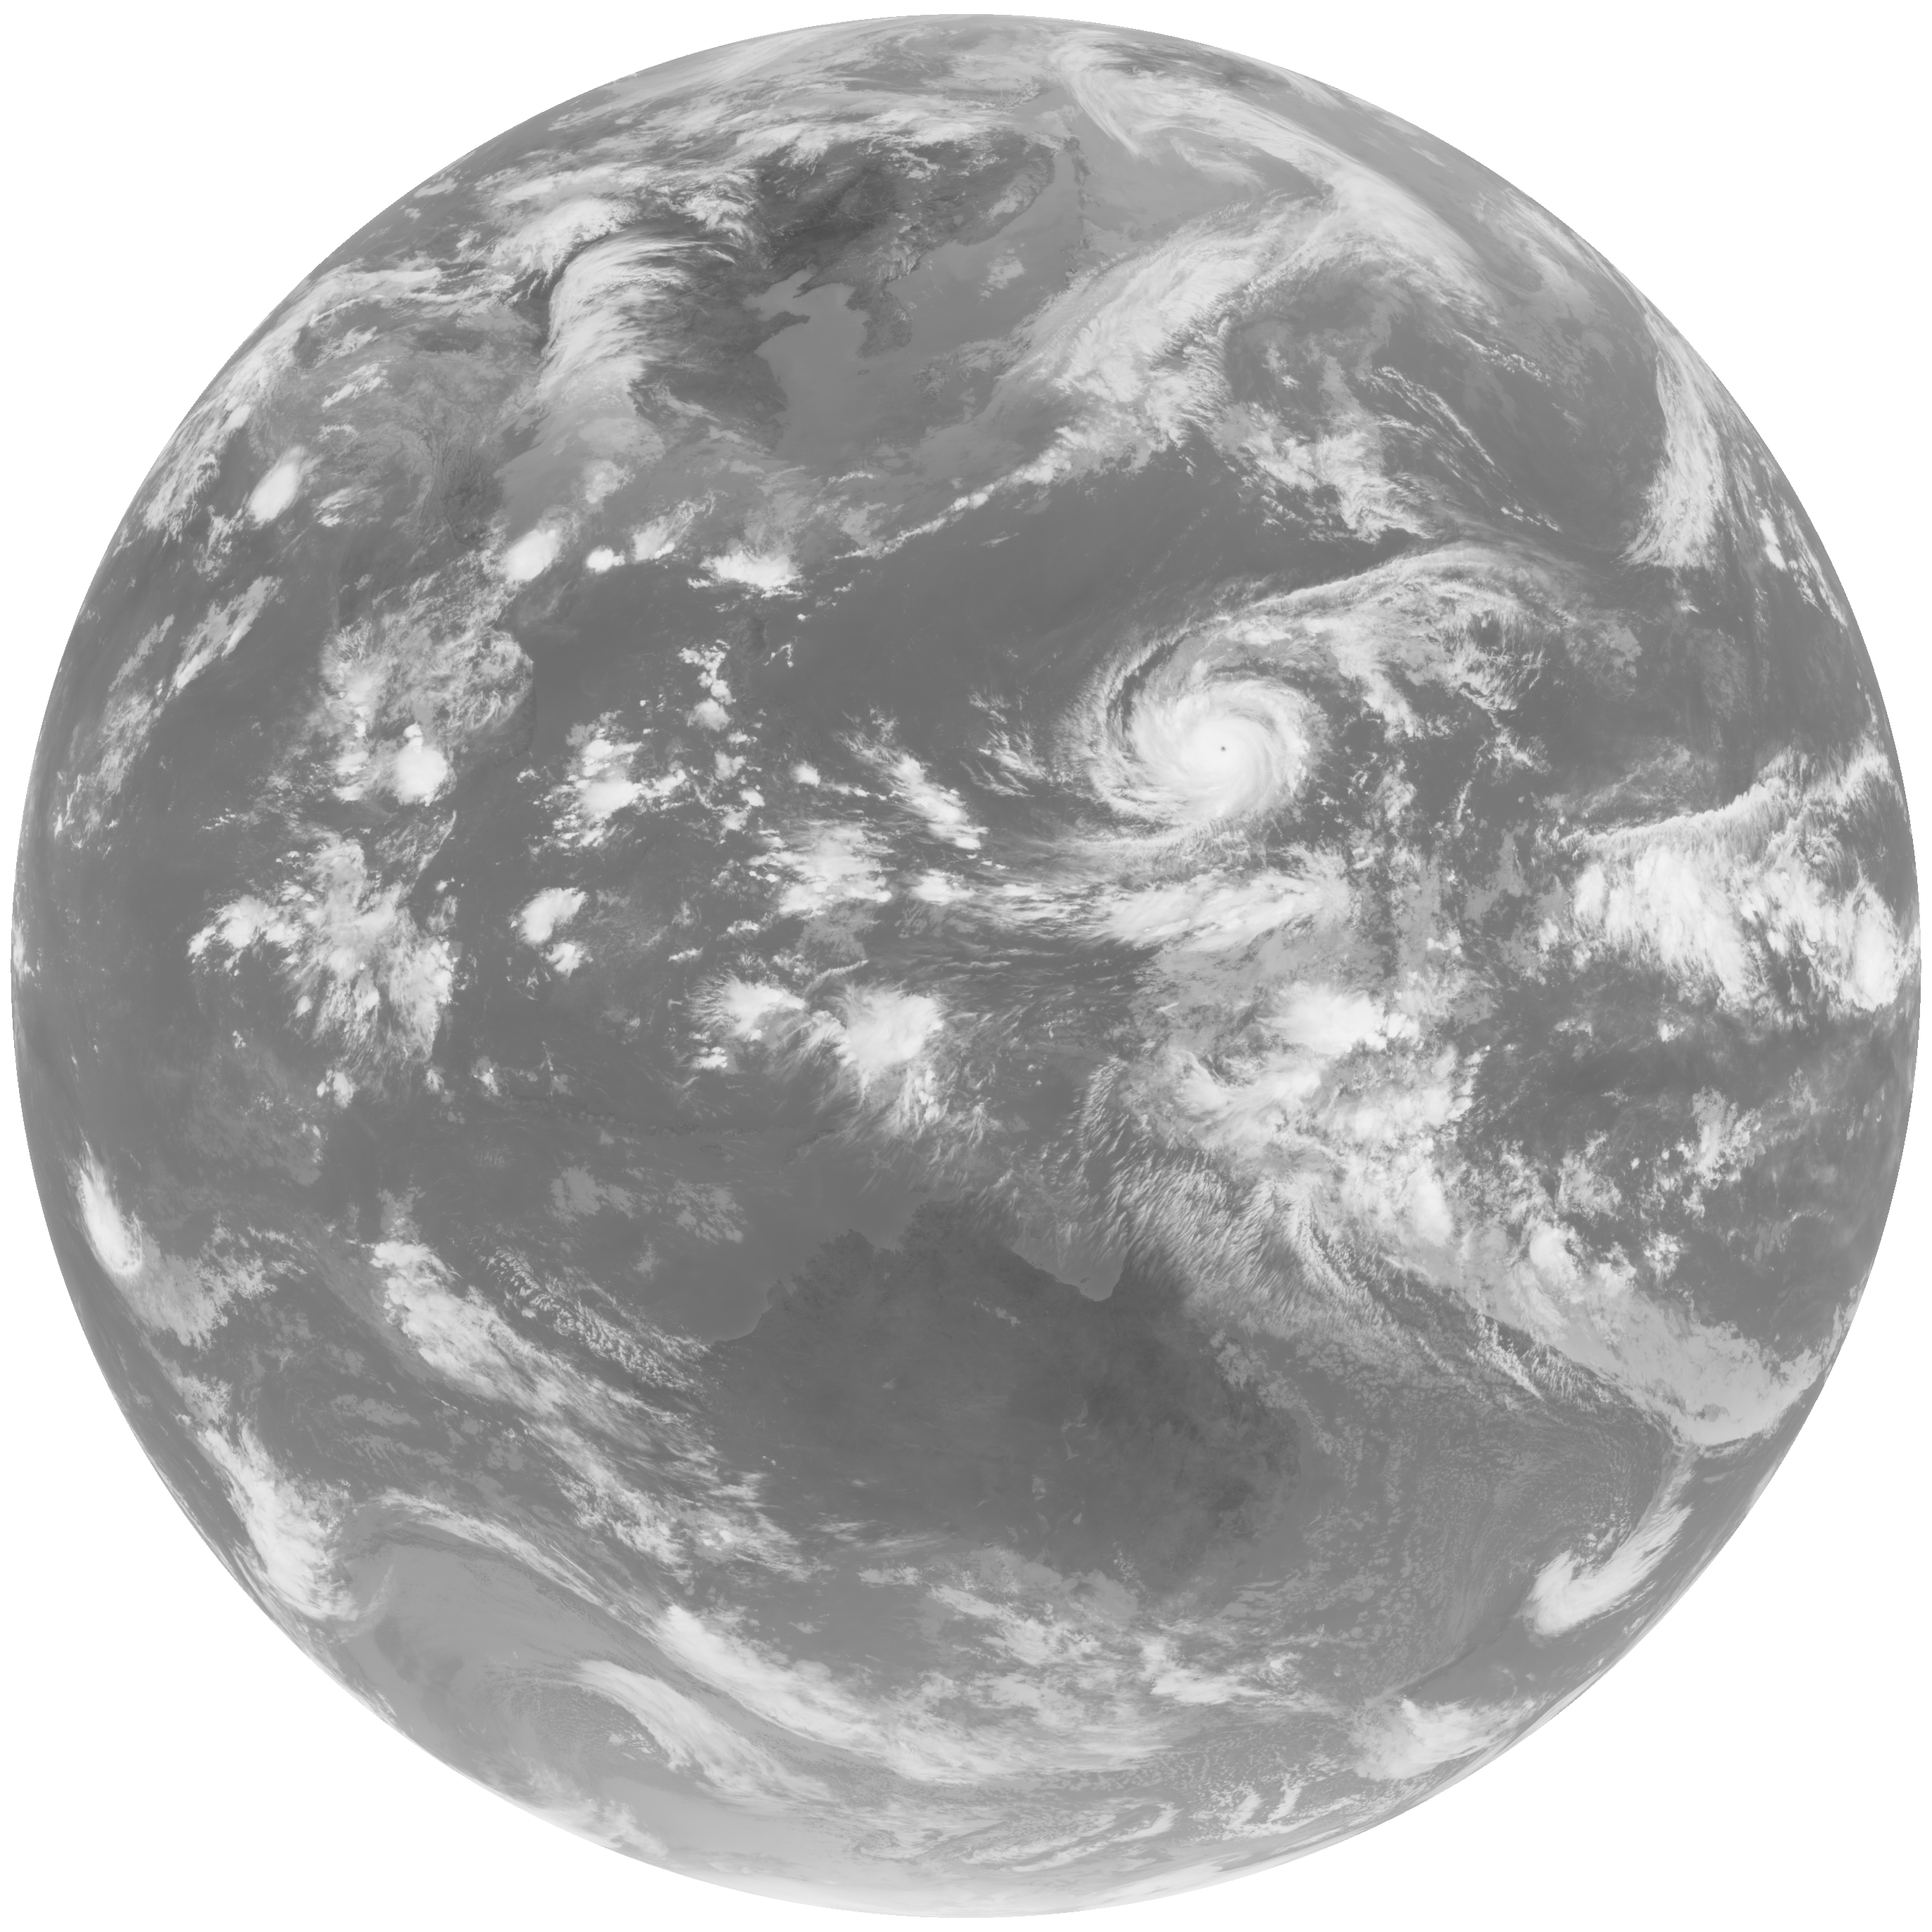typhoon: (955, 540, 1585, 874)
